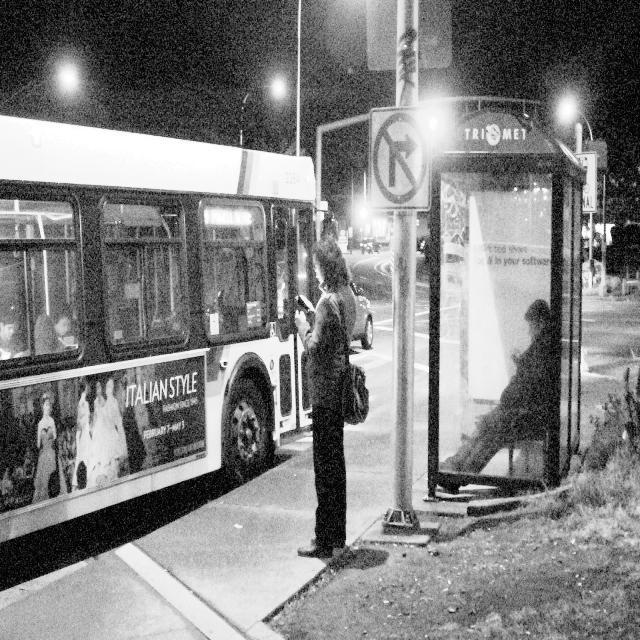Bus: (0, 139, 331, 571)
Car: (554, 210, 640, 332), (330, 269, 392, 365)
Person: (435, 289, 559, 548), (286, 246, 374, 582)
